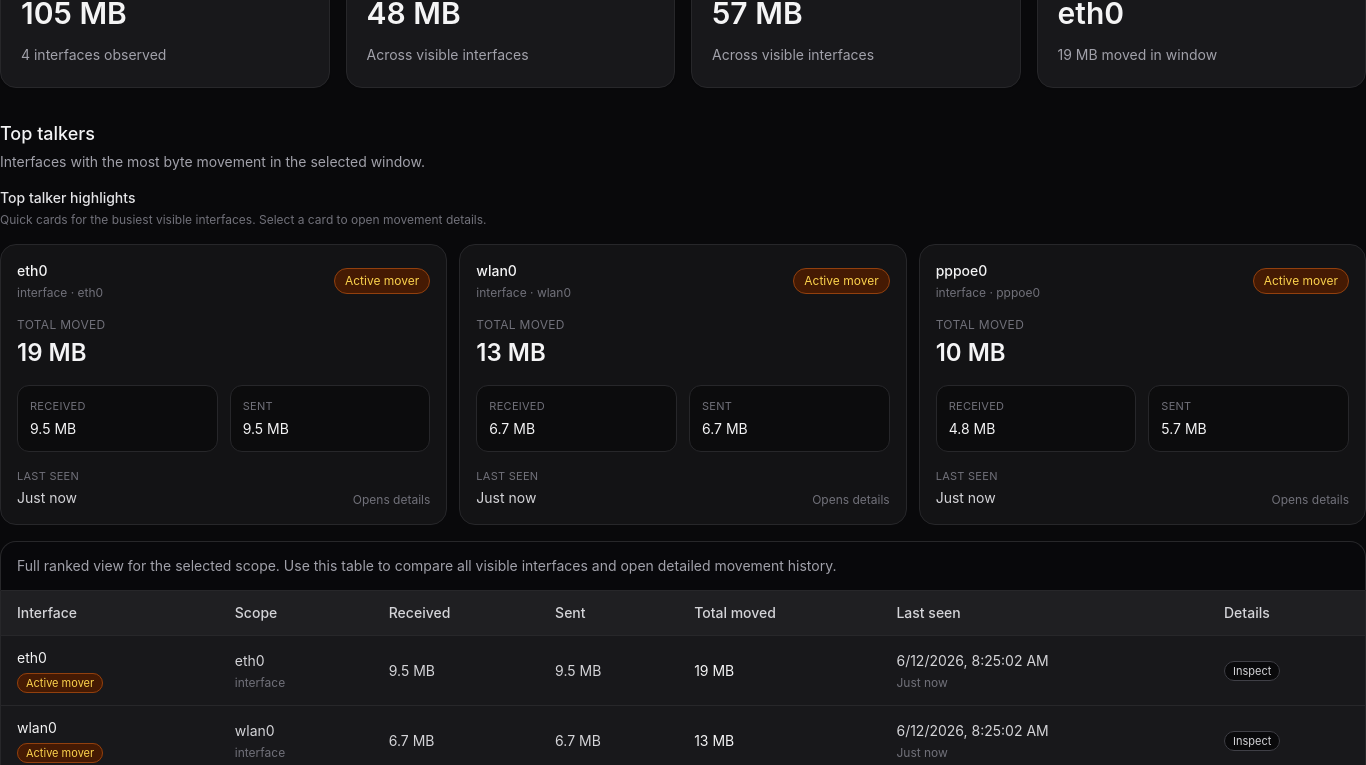
Scenario: TrafficPage › renders a top talker highlight strip and opens the drawer from a highlight card
(page scrolled)
expect the heading "Top talker highlights" is shown: met, box top-left (0, 189), bottom-right (136, 206)
expect the button with aria-label "Inspect top talker wlan0" is shown: met, box top-left (459, 244), bottom-right (907, 525)
Click the button with aria-label "Inspect top talker eth0".
click(32, 270)  # box top-left (0, 244), bottom-right (447, 525)
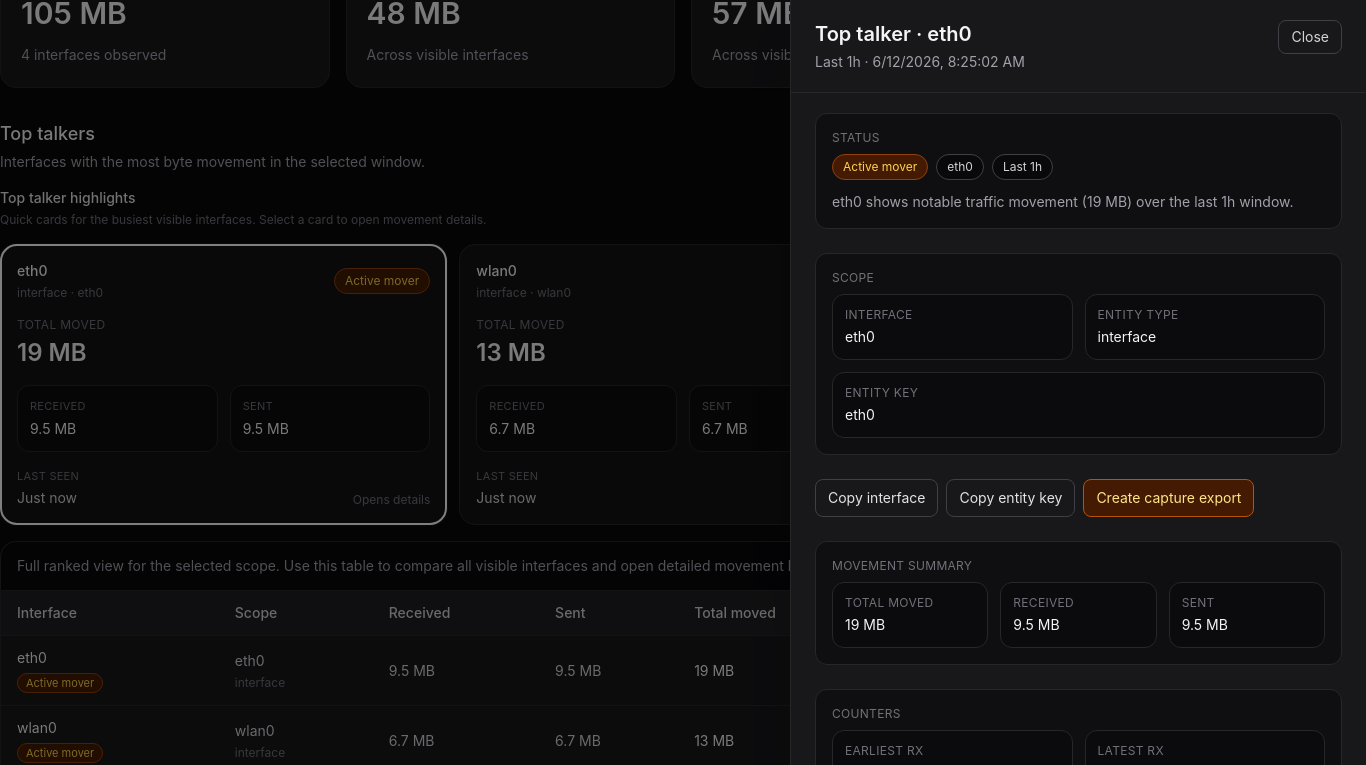
expect the heading "Top talker · eth0" is shown: met, box top-left (815, 22), bottom-right (972, 46)
